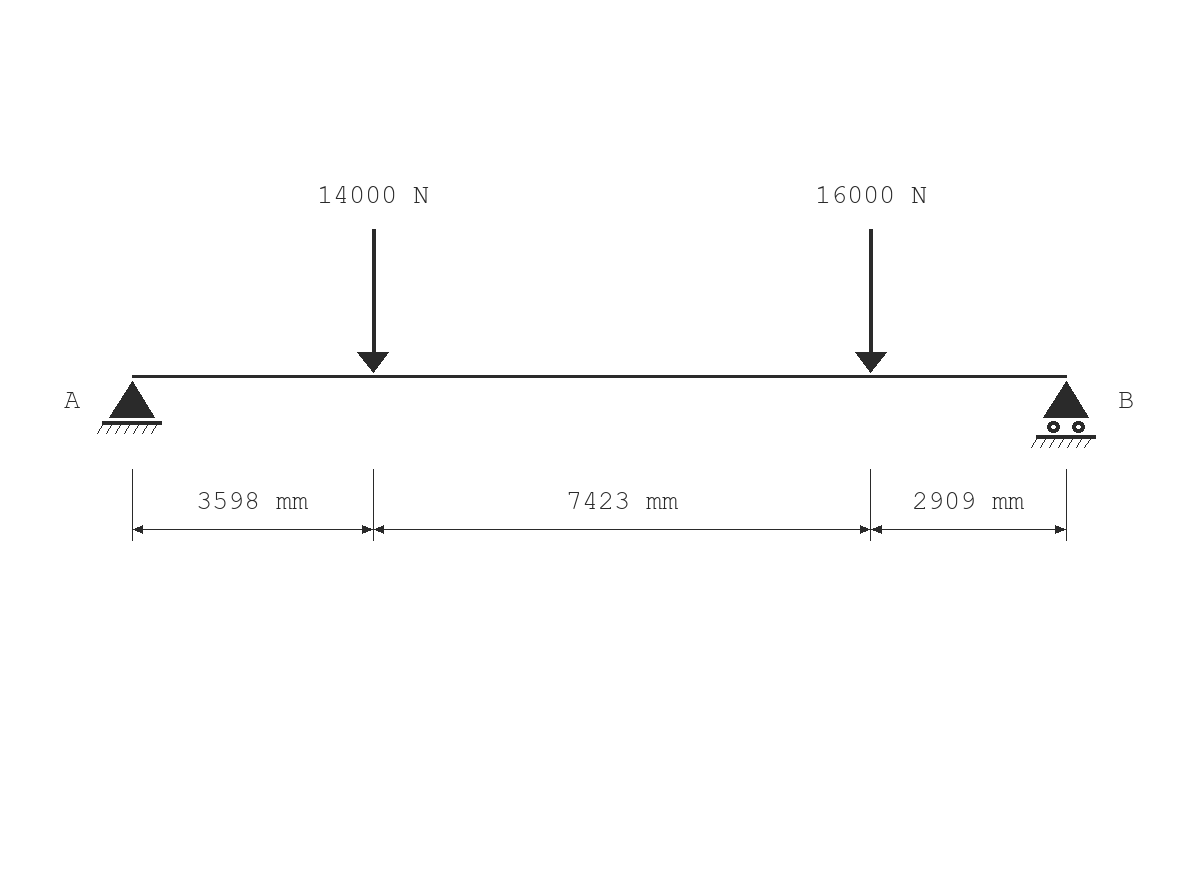pin_support: (97, 381, 162, 434)
point_load: (357, 229, 389, 373), (855, 229, 887, 373)
roller_support: (1031, 381, 1096, 448)
